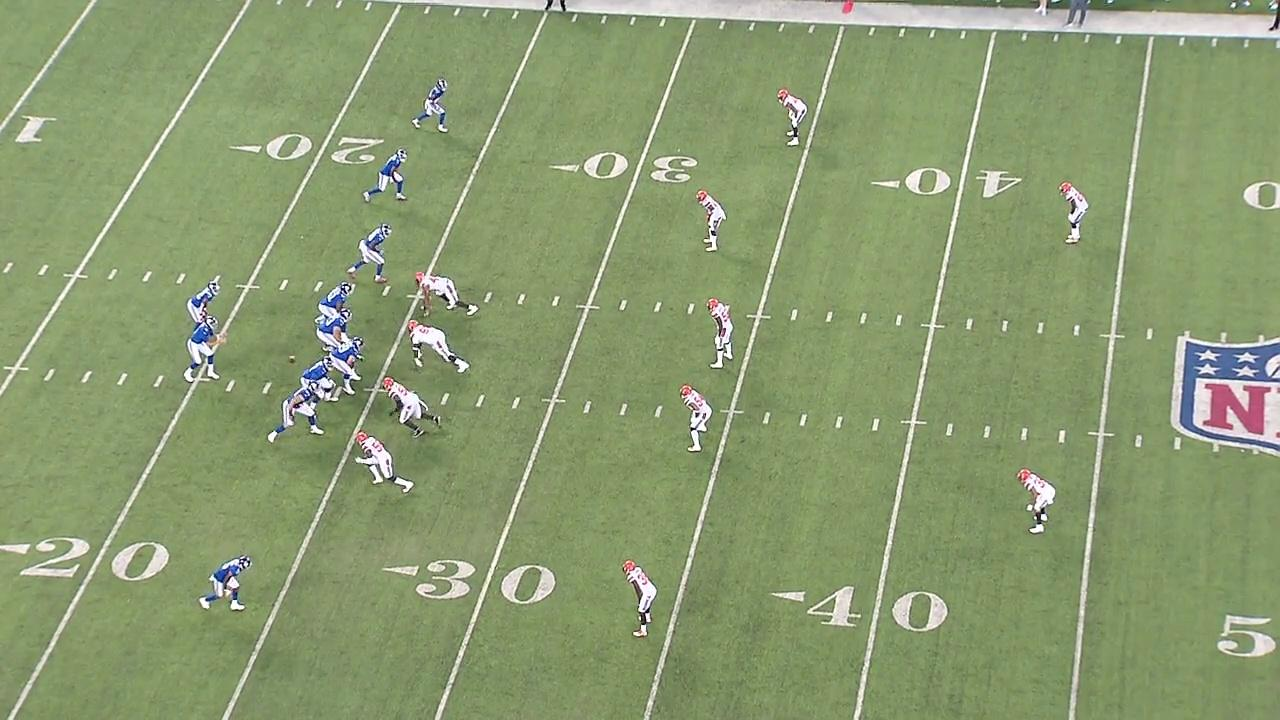five_hash: (60, 271, 90, 282), (234, 281, 260, 293), (361, 386, 387, 396), (745, 312, 773, 321), (3, 364, 30, 373), (1098, 332, 1125, 341), (539, 397, 569, 405), (920, 321, 946, 330), (1086, 430, 1115, 438), (575, 303, 602, 311), (718, 408, 745, 416), (899, 419, 928, 426)
hash: (103, 265, 123, 282), (149, 372, 166, 391), (78, 367, 94, 387), (138, 268, 156, 285), (546, 292, 563, 310), (614, 297, 632, 314), (1168, 434, 1185, 452), (113, 370, 129, 389), (41, 367, 58, 384), (579, 398, 596, 415), (172, 271, 189, 287), (511, 291, 528, 307), (258, 379, 274, 396), (868, 416, 884, 433), (979, 423, 995, 440), (1054, 428, 1070, 445), (856, 309, 871, 327), (651, 401, 666, 419), (832, 413, 847, 431), (36, 263, 52, 279), (509, 394, 525, 410), (942, 421, 958, 437), (481, 288, 496, 305), (759, 409, 774, 426), (276, 277, 291, 293), (379, 283, 394, 299), (786, 307, 802, 322), (891, 313, 907, 328), (1033, 320, 1048, 336), (615, 401, 630, 417), (1016, 426, 1031, 442), (1070, 322, 1084, 339), (223, 377, 237, 394), (683, 301, 698, 316), (796, 412, 811, 427), (439, 391, 453, 407), (474, 392, 488, 408), (998, 317, 1011, 334), (311, 279, 325, 294), (823, 310, 837, 325), (1132, 433, 1145, 449), (1, 261, 15, 275), (651, 300, 665, 314), (1142, 326, 1156, 340), (963, 317, 975, 332)
